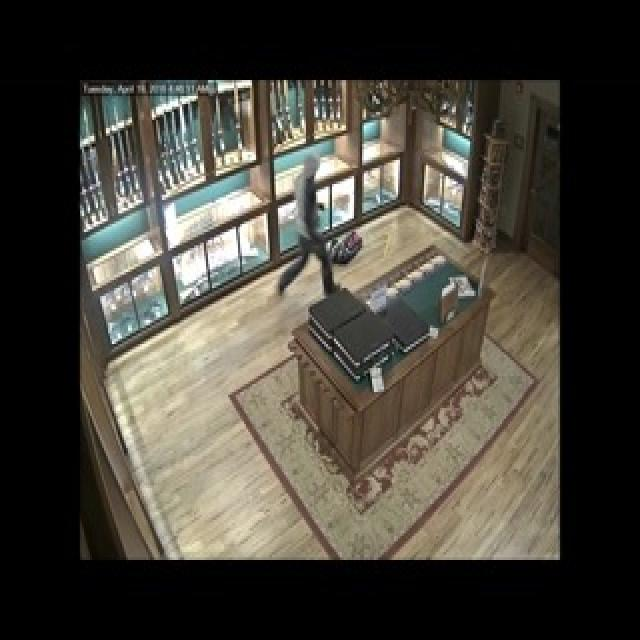thief: (280, 153, 336, 304)
